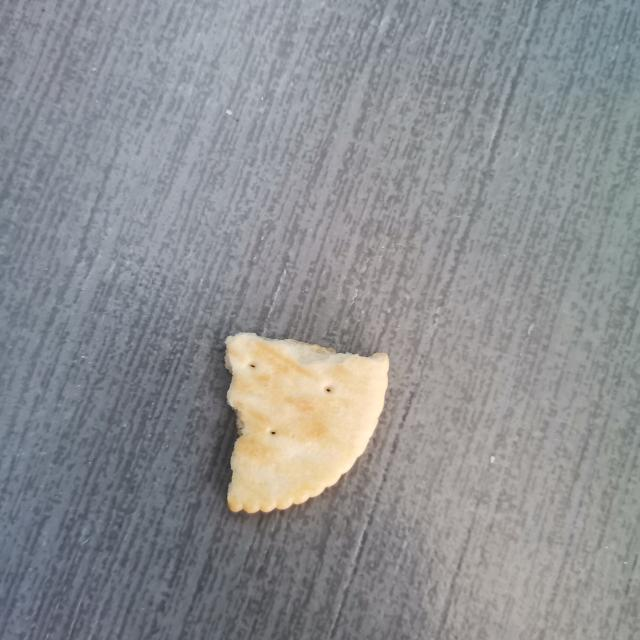Broken: (223, 330, 389, 514)
